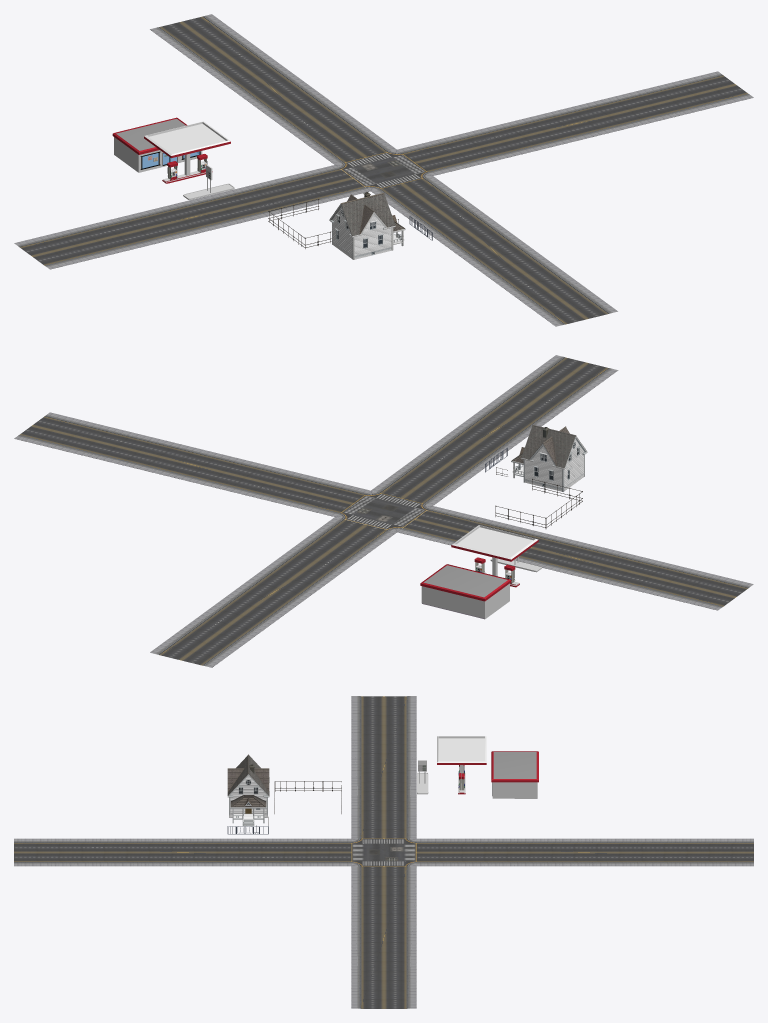
File: broadway-street.glb
The picture shows the model from 3 angles, top to bottom: view 1: azimuth 30°, elevation 25°; view 2: azimuth 150°, elevation 25°; view 3: azimuth 270°, elevation 25°; orthographic projection. The views are drawn at different scales.
Parts seen in each view (by area): view 1: Road_4X_Straight_City_Road_mat_0.001, Road_4X_Straight_City_Road_mat_0, Road_4X_Straight_City_Road_mat_0.002, Road_4X_Straight_City_Road_mat_0.004, Object_5, Gas_Pumps_Palette_0, Store_Palette_0, Road_X_Intersection_City_Intersection_mat_0; view 2: Road_4X_Straight_City_Road_mat_0.001, Road_4X_Straight_City_Road_mat_0.002, Road_4X_Straight_City_Road_mat_0.004, Road_4X_Straight_City_Road_mat_0, Object_5, Store_Palette_0, Gas_Pumps_Palette_0, Road_X_Intersection_City_Intersection_mat_0; view 3: Road_4X_Straight_City_Road_mat_0.002, Road_4X_Straight_City_Road_mat_0.004, Road_4X_Straight_City_Road_mat_0, Road_4X_Straight_City_Road_mat_0.001, Object_5, Store_Palette_0, Road_X_Intersection_City_Intersection_mat_0, Gas_Pumps_Palette_0.
Part boxes in pixels (x1,y1,x2,y2): Road_4X_Straight_City_Road_mat_0.001: (397,71,753,175); Road_4X_Straight_City_Road_mat_0: (14,165,370,269); Road_4X_Straight_City_Road_mat_0.002: (150,14,396,164); Road_4X_Straight_City_Road_mat_0.004: (371,176,617,326); Object_5: (329,192,405,259); Gas_Pumps_Palette_0: (144,121,230,183); Store_Palette_0: (112,117,202,172); Road_X_Intersection_City_Intersection_mat_0: (340,152,427,188); Road_4X_Straight_City_Road_mat_0.001: (14,412,370,516); Road_4X_Straight_City_Road_mat_0.002: (150,517,396,667); Road_4X_Straight_City_Road_mat_0.004: (371,355,618,505); Road_4X_Straight_City_Road_mat_0: (397,506,753,610); Object_5: (511,424,587,491); Store_Palette_0: (420,564,511,619); Gas_Pumps_Palette_0: (451,525,538,587); Road_X_Intersection_City_Intersection_mat_0: (340,493,427,529); Road_4X_Straight_City_Road_mat_0.002: (416,838,753,866); Road_4X_Straight_City_Road_mat_0.004: (14,838,351,866); Road_4X_Straight_City_Road_mat_0: (351,696,416,838); Road_4X_Straight_City_Road_mat_0.001: (351,866,416,1008); Object_5: (227,754,269,825); Store_Palette_0: (491,751,538,798); Road_X_Intersection_City_Intersection_mat_0: (351,838,416,866); Gas_Pumps_Palette_0: (437,736,486,794).
Size of the model in its own units: 189 by 13.76 by 189.
Materials: 11 (8 with a texture image).
